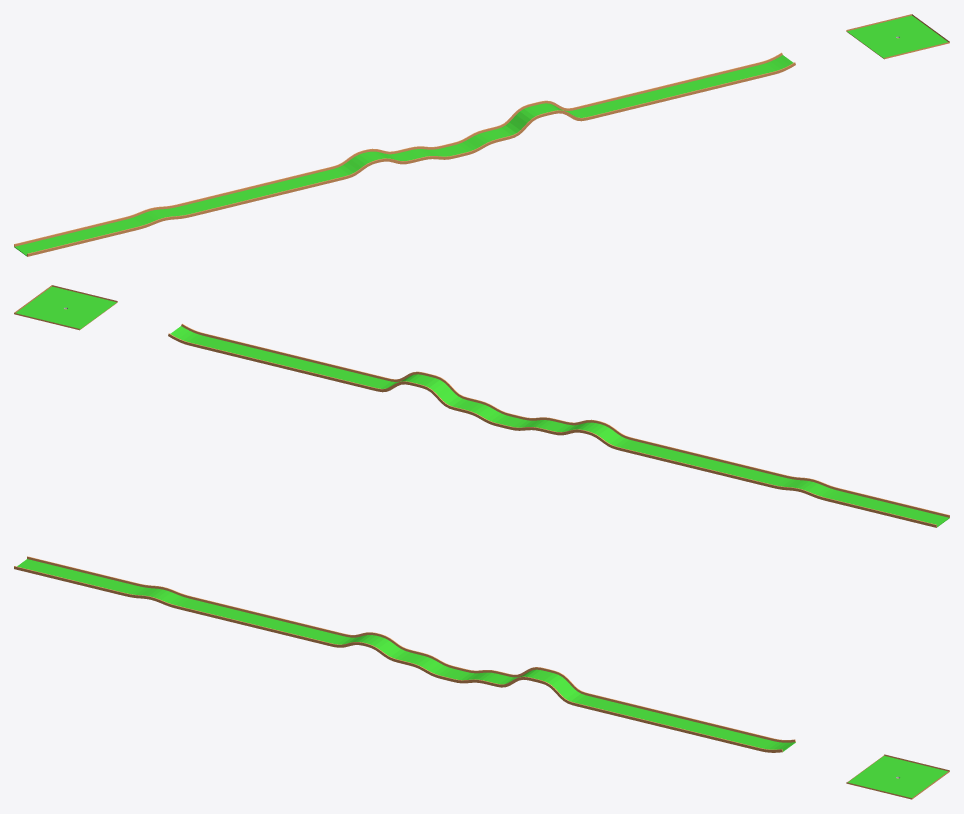
File: m-golf-holes-01.glb
3 renders of one model, top to bottom at view 1: azimuth 30°, elevation 25°; view 2: azimuth 150°, elevation 25°; view 3: azimuth 330°, elevation 25°, orthographic.
Visible parts, largest first — view 1: Track_Visual, Green_Visual; view 2: Track_Visual, Green_Visual; view 3: Track_Visual, Green_Visual.
Part boxes in pixels (bbox=[...]): Track_Visual: bbox=[14, 52, 795, 256]; Green_Visual: bbox=[846, 14, 949, 59]; Track_Visual: bbox=[168, 323, 949, 527]; Green_Visual: bbox=[14, 285, 117, 330]; Track_Visual: bbox=[14, 556, 795, 752]; Green_Visual: bbox=[846, 754, 949, 799].
Size of what is drawn, in the model's own units: 83 by 2 by 6.
